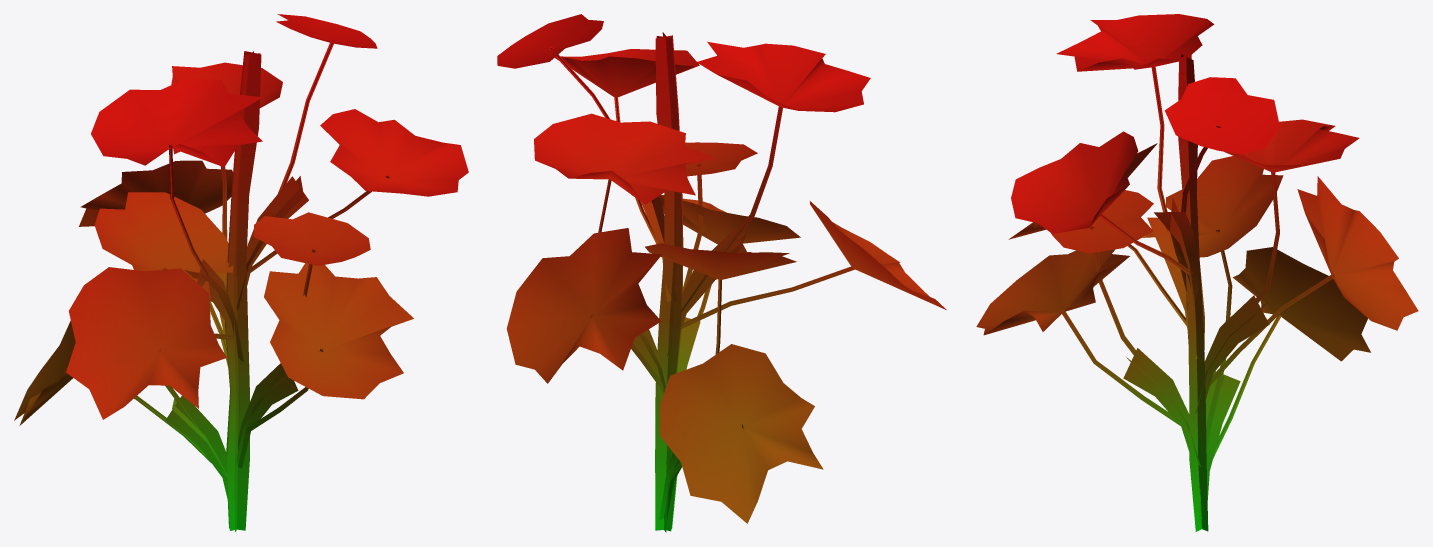
Rendered from Var4_LOD0.fbx.
3 renders of one model, left to right at view 1: azimuth 30°, elevation 25°; view 2: azimuth 150°, elevation 25°; view 3: azimuth 270°, elevation 25°, orthographic. The views are drawn at different scales.
Visible parts, largest first — view 1: _4823_Var4_LOD0; view 2: _4823_Var4_LOD0; view 3: _4823_Var4_LOD0.
Boxes of the visible parts, x1,y1,x2,y2 form: _4823_Var4_LOD0: (14,14,468,532); _4823_Var4_LOD0: (497,14,946,532); _4823_Var4_LOD0: (976,14,1418,531).
Bounding box in the file's own units: 67.23 × 80.97 × 67.66.
